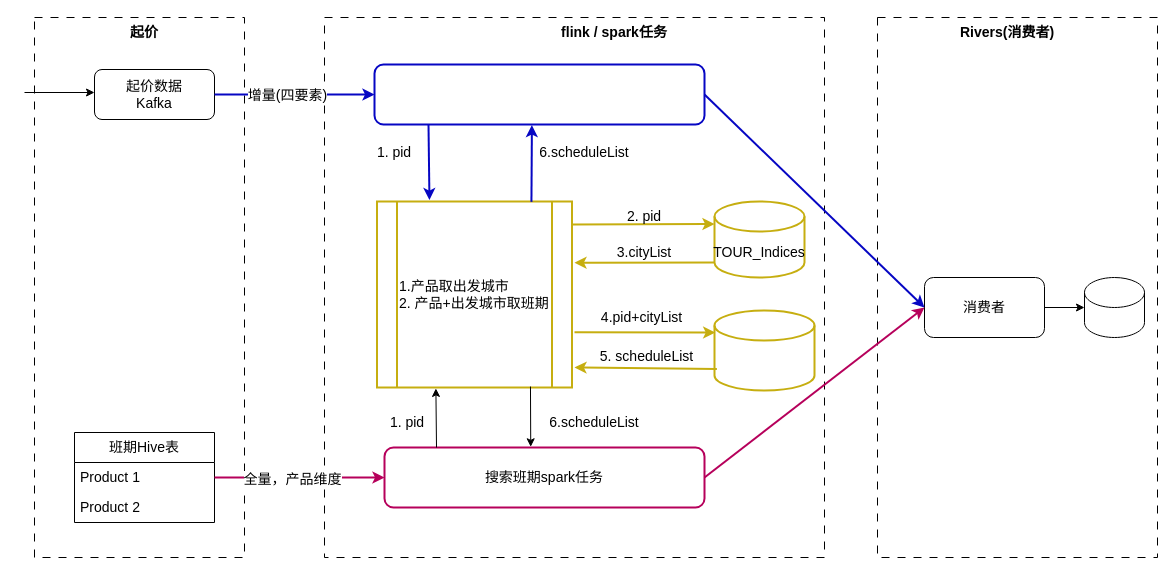
Image size: 1175x575. Some labels were removed from this diagram. The box of each missing label's shape, as (x1, y1, x2, y2) in pixels:
ES: (1084, 276, 1144, 338)
搜索 flink 任务 (近3天存在出发班期，30分钟聚合，产品维度): (373, 63, 705, 125)
班期Redis: (713, 309, 815, 391)
